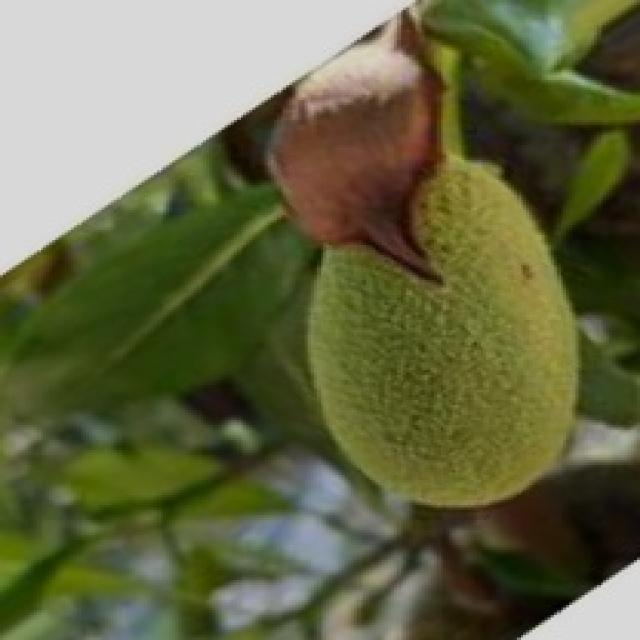Fruit: (258, 122, 628, 532)
